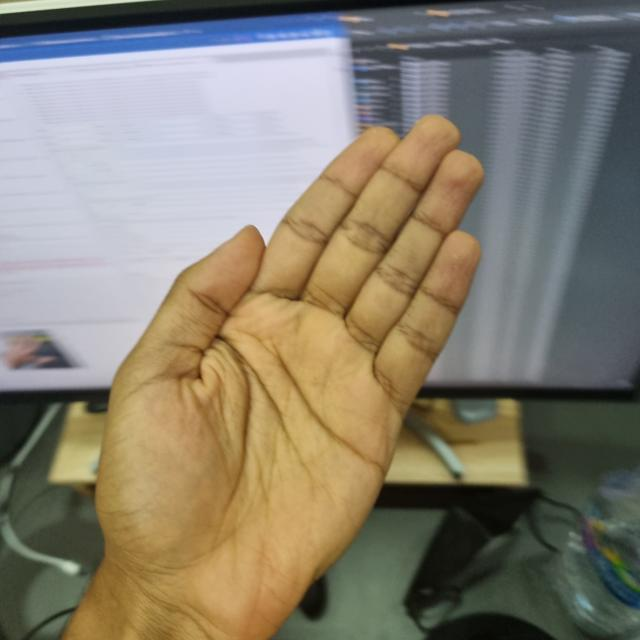Paper: (255, 115, 482, 495)
